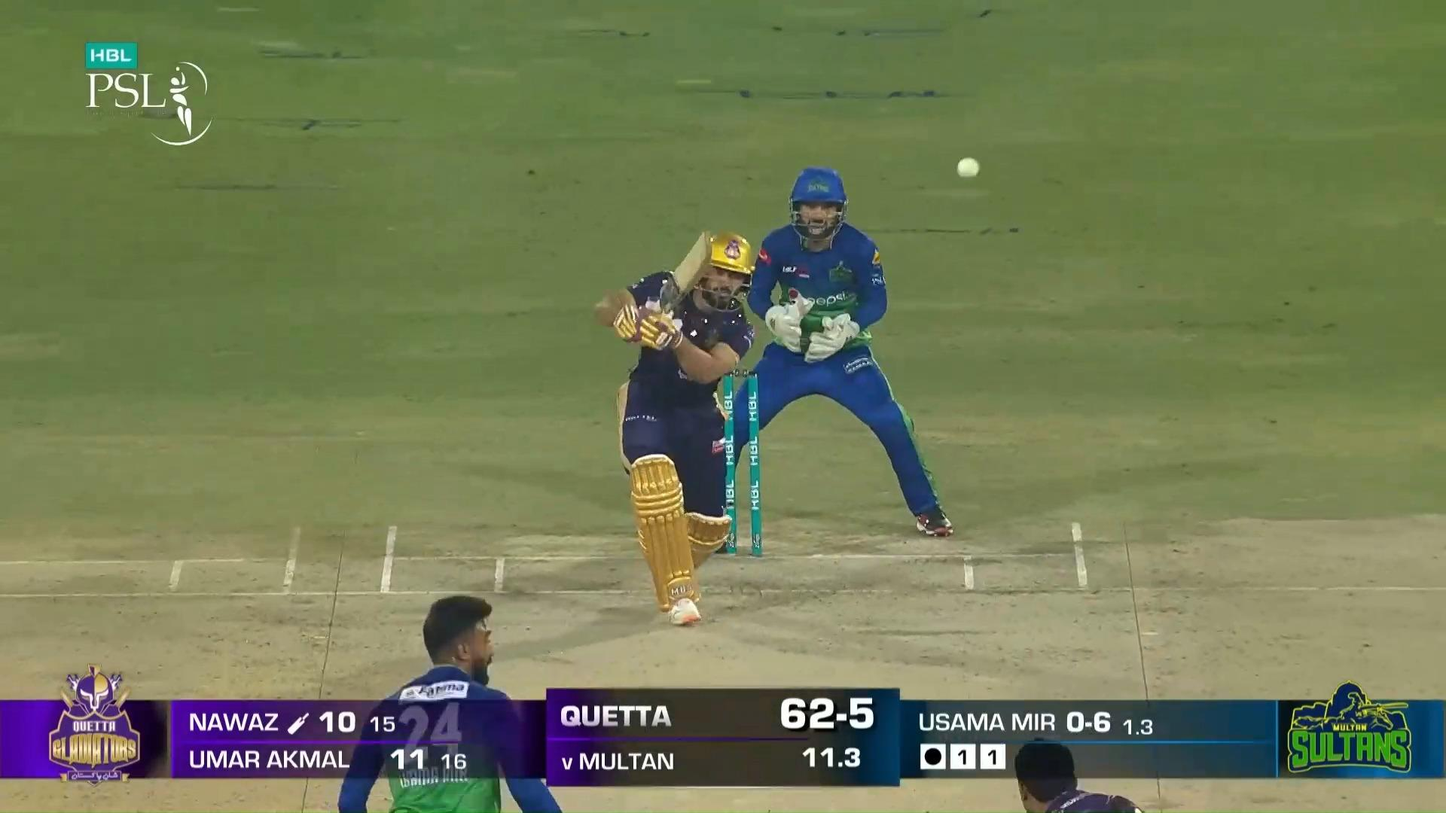batsman: (590, 229, 756, 626)
